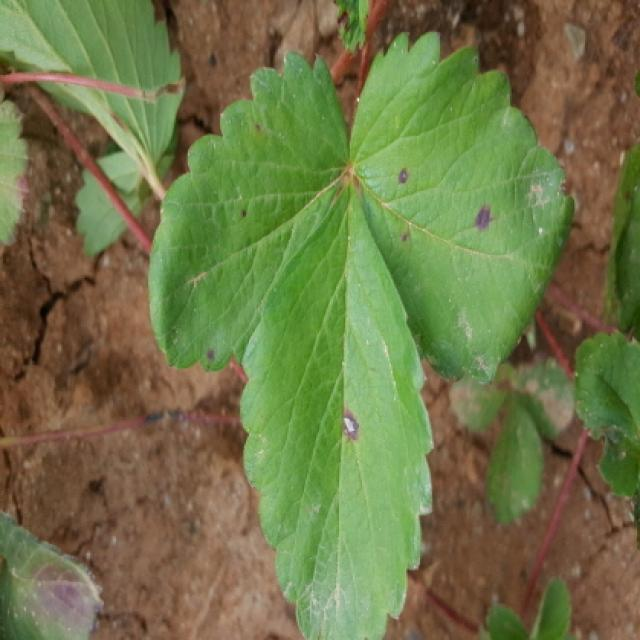Leaf Spot: (240, 170, 436, 638), (350, 28, 575, 388), (147, 47, 349, 373), (448, 361, 519, 433)
